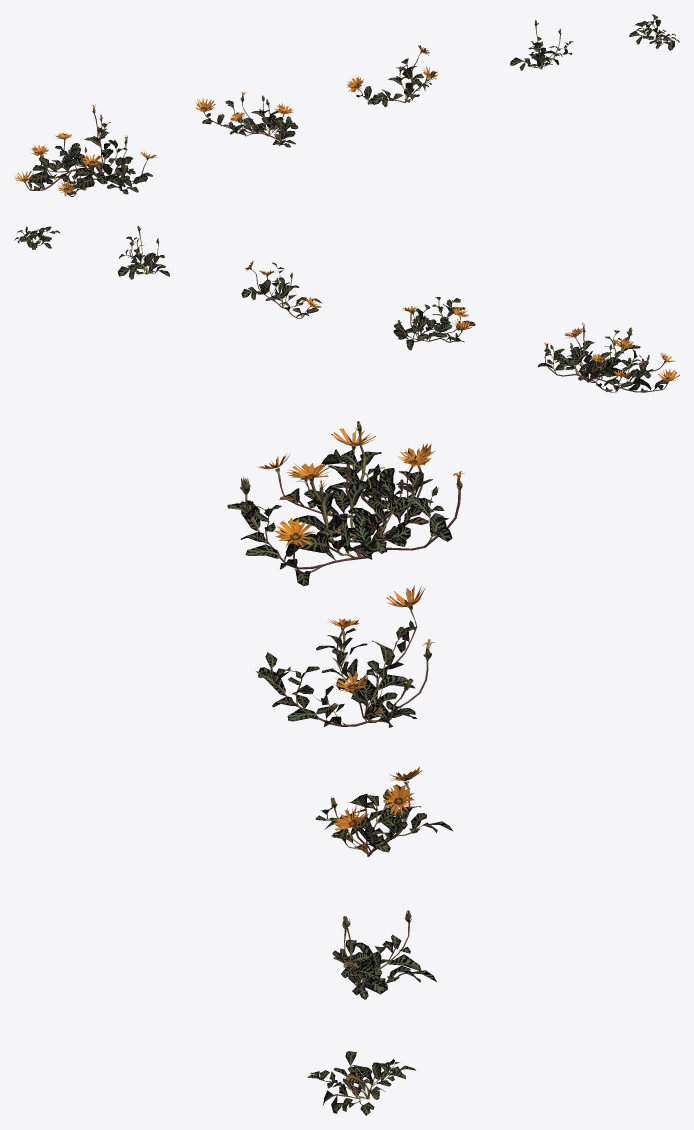
Rendered from ph_flower_ursinia.glb.
3 renders of one model, top to bottom at view 1: azimuth 30°, elevation 25°; view 2: azimuth 150°, elevation 25°; view 3: azimuth 270°, elevation 25°, orthographic. The views are drawn at different scales.
Size of the model in its own units: 2.19 by 0.1706 by 0.3433.
1 material, 1 textured.
